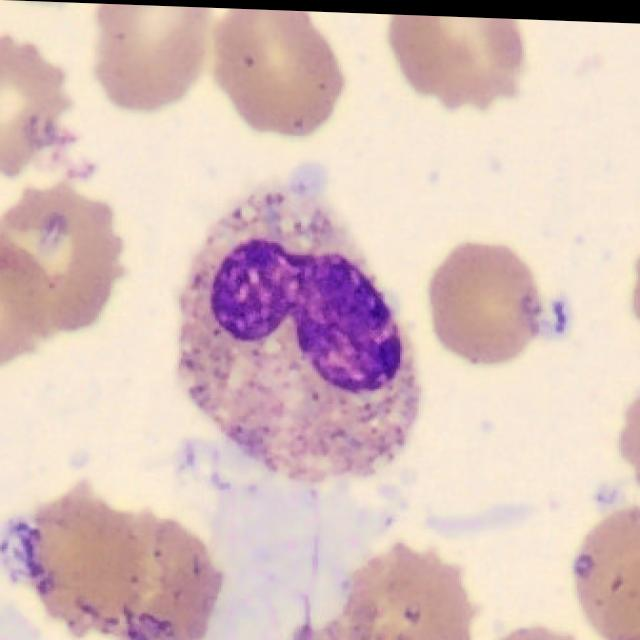Bastonete: (179, 187, 421, 484)
